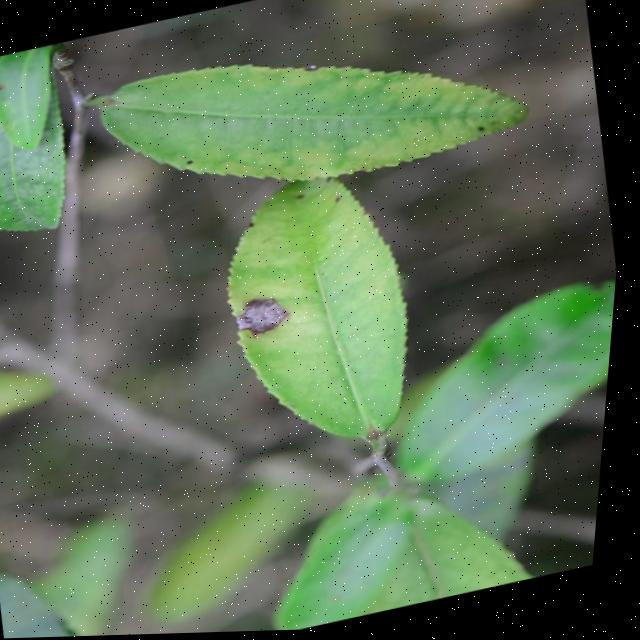Tea red scab: (231, 282, 301, 344)
